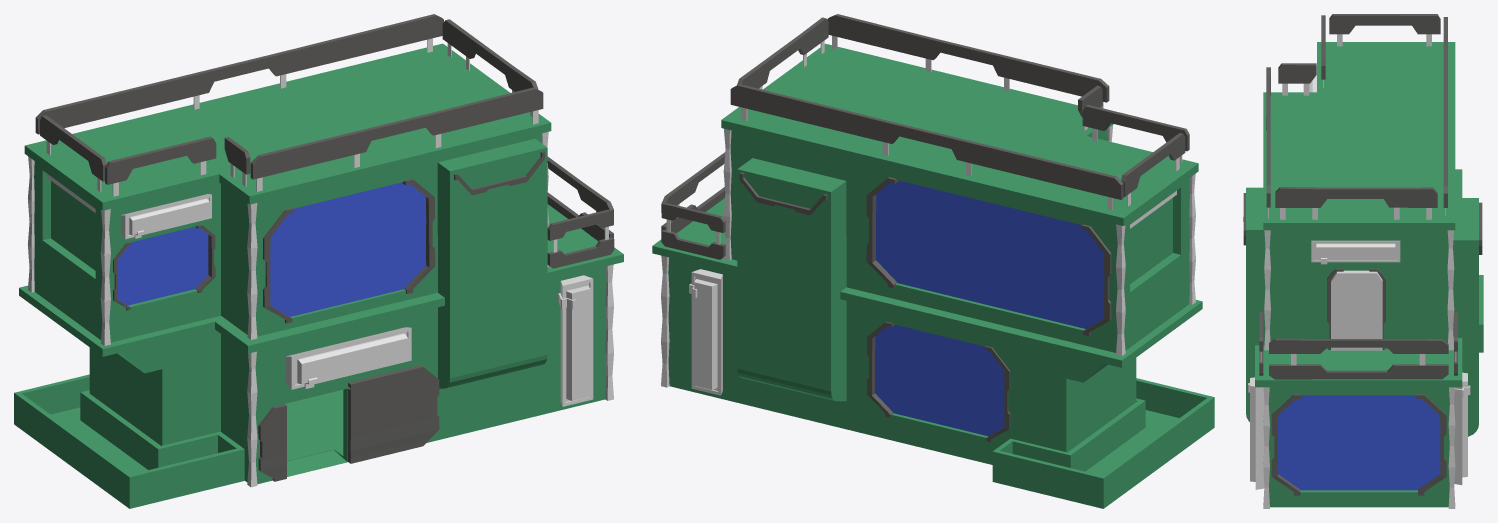
File: EdificioV2.glb
3 renders of one model, left to right at view 1: azimuth 30°, elevation 25°; view 2: azimuth 150°, elevation 25°; view 3: azimuth 270°, elevation 25°, orthographic. The views are drawn at different scales.
Visible parts, largest first — view 1: Techo, Piso1, Piso 2, Cube.005, Cube.079, Cube.002, Cube.058, Piso 2.001, Cube.105, Cube.056, Cube.078, Cube.107 (+17 smaller); view 2: Techo, Piso1, Cube.035, Cube.080, Piso 2, Cube.002, Cube.084, Cube.058, Piso 2.001, Cube.056, Cube.102, Cube.063 (+15 smaller); view 3: Techo, Cube.081, Piso 2, Piso1, Piso 2.001, Cube.035, Cube.077, Cube.005, Cube.063, Cube.040, Cube.039, Cube.097 (+16 smaller).
Boxes of the visible parts, <box> form: Techo: <box>24,43,551,210</box>; Piso1: <box>89,266,606,484</box>; Piso 2: <box>34,134,541,342</box>; Cube.005: <box>437,138,547,388</box>; Cube.079: <box>270,182,426,316</box>; Cube.002: <box>14,374,244,508</box>; Cube.058: <box>35,14,443,134</box>; Piso 2.001: <box>19,204,623,356</box>; Cube.105: <box>348,365,439,463</box>; Cube.056: <box>250,87,543,179</box>; Cube.078: <box>117,227,208,305</box>; Cube.107: <box>286,327,411,389</box>; Techo: <box>721,43,1198,225</box>; Piso1: <box>668,257,1136,464</box>; Cube.035: <box>737,158,846,401</box>; Cube.080: <box>876,180,1104,328</box>; Piso 2: <box>730,129,1189,352</box>; Cube.002: <box>992,378,1214,508</box>; Cube.084: <box>875,324,1004,436</box>; Cube.058: <box>730,84,1123,199</box>; Piso 2.001: <box>652,198,1202,367</box>; Cube.056: <box>827,14,1109,102</box>; Cube.102: <box>691,269,722,395</box>; Cube.063: <box>737,17,828,88</box>; Techo: <box>1263,42,1455,230</box>; Cube.081: <box>1278,395,1440,490</box>; Piso 2: <box>1269,230,1448,348</box>; Piso1: <box>1268,387,1449,507</box>; Piso 2.001: <box>1255,169,1462,387</box>; Cube.035: <box>1453,198,1478,436</box>; Cube.077: <box>1331,270,1382,350</box>; Cube.005: <box>1246,187,1265,421</box>; Cube.063: <box>1275,187,1437,207</box>; Cube.040: <box>1269,364,1448,379</box>; Cube.039: <box>1269,338,1448,353</box>; Cube.097: <box>1311,240,1400,262</box>.
Size of what is drawn, in the model's own units: 32.34 by 20.76 by 15.53.
